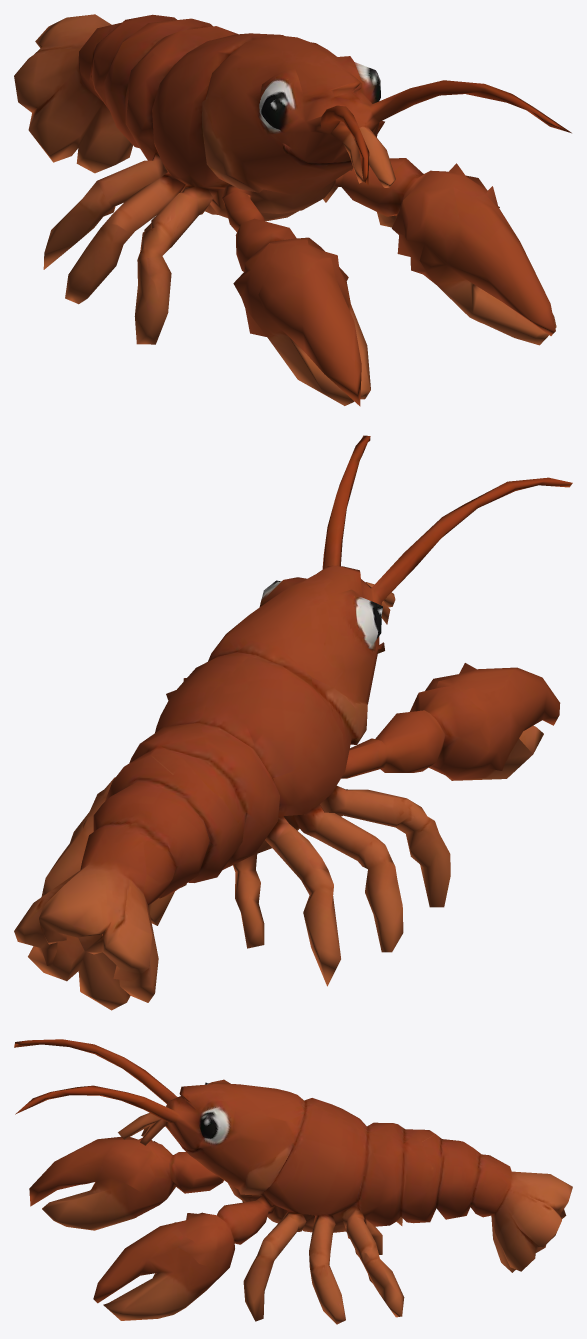
Rendered from fish-crayfish.glb.
3 renders of one model, top to bottom at view 1: azimuth 30°, elevation 25°; view 2: azimuth 150°, elevation 25°; view 3: azimuth 270°, elevation 25°, orthographic. The views are drawn at different scales.
Visible parts, largest first — view 1: tripo_node_3feba88a-954b-470b-985a-82c62a2b9e5a; view 2: tripo_node_3feba88a-954b-470b-985a-82c62a2b9e5a; view 3: tripo_node_3feba88a-954b-470b-985a-82c62a2b9e5a.
Boxes of the visible parts, left/top/right/bottom form: tripo_node_3feba88a-954b-470b-985a-82c62a2b9e5a: left=14, top=14, right=571, bottom=406; tripo_node_3feba88a-954b-470b-985a-82c62a2b9e5a: left=14, top=435, right=572, bottom=1010; tripo_node_3feba88a-954b-470b-985a-82c62a2b9e5a: left=14, top=1039, right=572, bottom=1324.
Size of the model in its own units: 0.4769 by 0.4145 by 1.
Materials: 1 (1 with a texture image).
